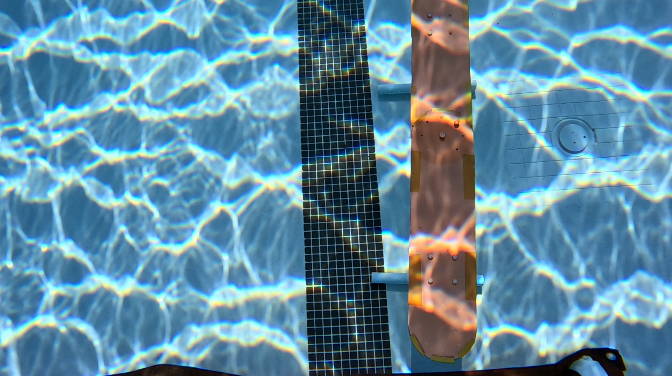pathmarker: (405, 0, 479, 363)
sandbag: (120, 350, 622, 374)
